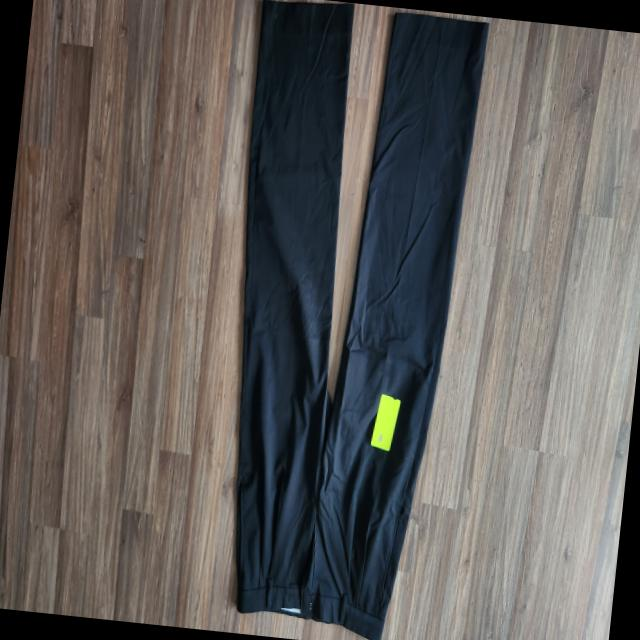card: (369, 392, 400, 450)
